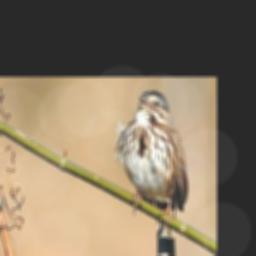Sparrow: (113, 89, 189, 256)
